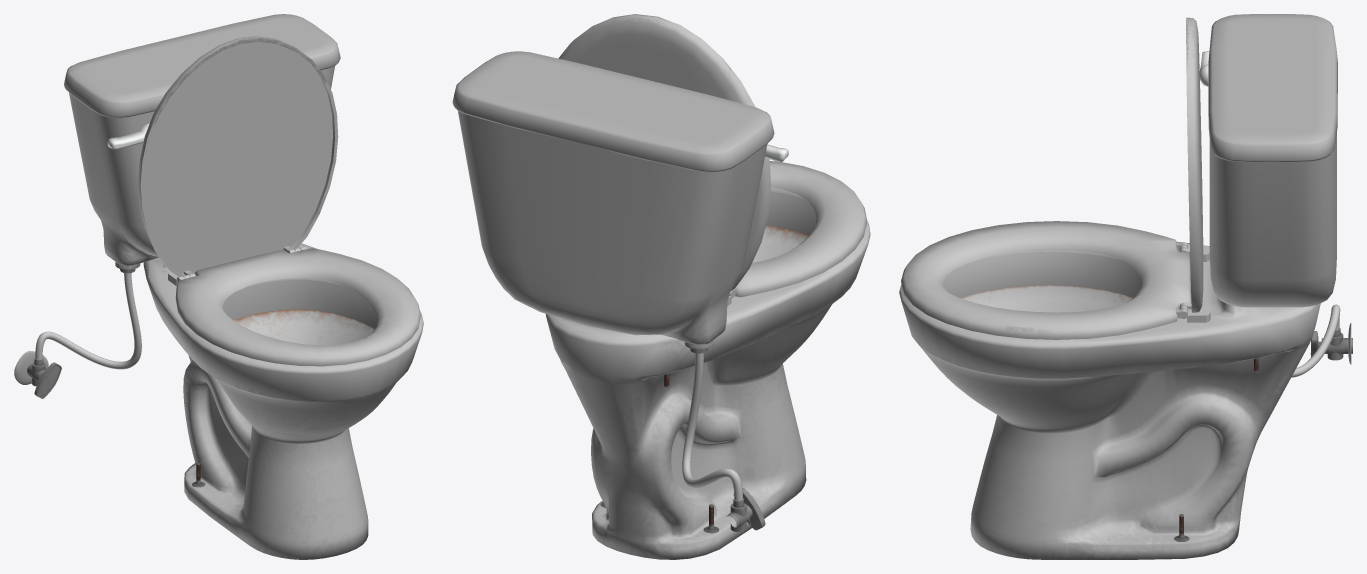
File: toilet.glb
3 renders of one model, left to right at view 1: azimuth 30°, elevation 25°; view 2: azimuth 150°, elevation 25°; view 3: azimuth 270°, elevation 25°, orthographic. The views are drawn at different scales.
Visible parts, largest first — view 1: ToiletSeat; view 2: ToiletSeat; view 3: ToiletSeat.
Part boxes in pixels (x1=…): ToiletSeat: x1=14, y1=14, x2=423, y2=559; ToiletSeat: x1=452, y1=14, x2=870, y2=559; ToiletSeat: x1=899, y1=14, x2=1352, y2=559.
Bounding box in the file's own units: 0.4783 × 0.7435 × 0.607.
1 material, 1 textured.
